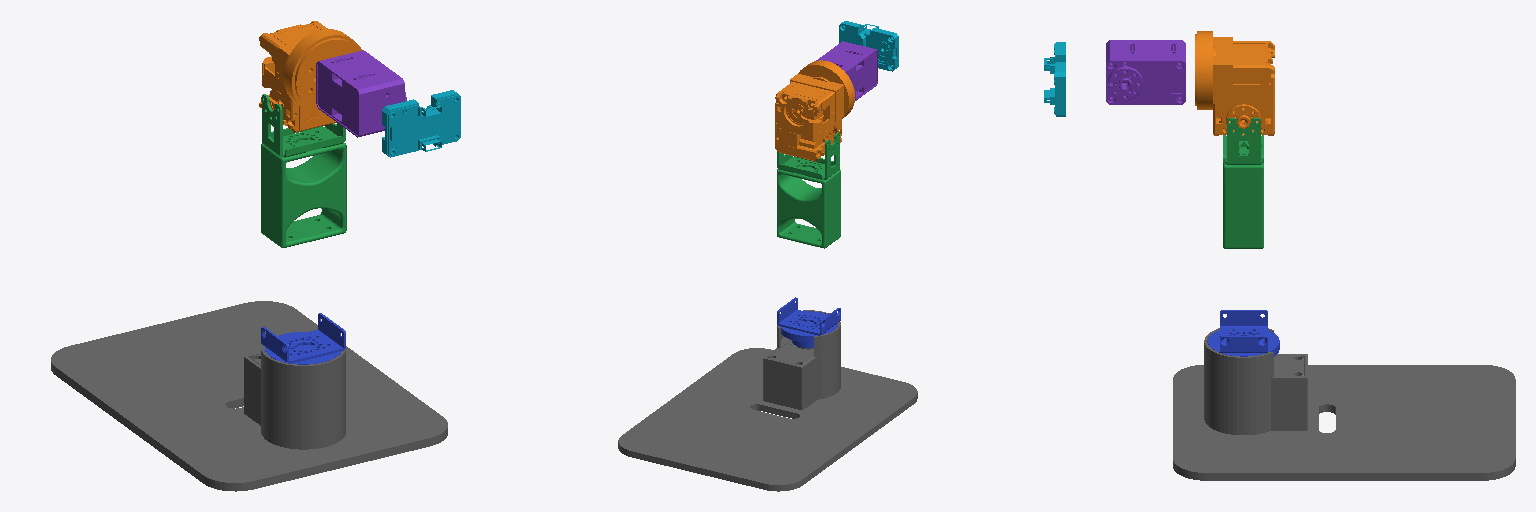
The robot description file, URDF, robot "robot_arm_fusion":
<?xml version="1.0"?>
<robot name="robot_arm_fusion">
  <material name="base_gray"><color rgba="0.45 0.45 0.45 1"/></material>
  <material name="yaw_blue"><color rgba="0.25 0.35 0.85 1"/></material>
  <material name="shoulder_green"><color rgba="0.2 0.65 0.35 1"/></material>
  <material name="upper_orange"><color rgba="0.95 0.55 0.15 1"/></material>
  <material name="forearm_purple"><color rgba="0.55 0.3 0.8 1"/></material>
  <material name="elbow_red"><color rgba="0.85 0.25 0.2 1"/></material>
  <material name="wrist_cyan"><color rgba="0.1 0.7 0.8 1"/></material>

  <link name="base_link">
    <inertial>
      <origin xyz="0 0 0" rpy="0 0 0"/>
      <mass value="0.1"/>
      <inertia ixx="0.0001" ixy="0" ixz="0" iyy="0.0001" iyz="0" izz="0.0001"/>
    </inertial>
    <visual>
      <origin xyz="-0.075 -0.0413 0" rpy="0 -0 0"/>
      <geometry><mesh filename="../cad/exports/fusion_meshes/arm_plate_v2_1.stl" scale="0.001 0.001 0.001"/></geometry>
      <material name="base_gray"/>
    </visual>
    <visual>
      <origin xyz="0.00015 -5e-05 0.022" rpy="-1.57772e-30 2.9525e-15 -3.14159"/>
      <geometry><mesh filename="../cad/exports/fusion_meshes/XM_H-430_idler_1_DUMMY_DC12_1.stl" scale="0.001 0.001 0.001"/></geometry>
      <material name="base_gray"/>
    </visual>
  </link>

  <link name="base_yaw_link">
    <inertial>
      <origin xyz="0 0 0" rpy="0 0 0"/>
      <mass value="0.1"/>
      <inertia ixx="0.0001" ixy="0" ixz="0" iyy="0.0001" iyz="0" izz="0.0001"/>
    </inertial>
    <visual>
      <origin xyz="-4.43239e-34 9.52863e-34 0.055" rpy="-3.14159 -1.21521e-17 -3.14159"/>
      <geometry><mesh filename="../cad/exports/fusion_meshes/arm_thrustA_1.stl" scale="0.001 0.001 0.001"/></geometry>
      <material name="yaw_blue"/>
    </visual>
    <visual>
      <origin xyz="2.56706e-16 1.09555e-16 0.0745" rpy="-3.14159 -2.04493e-15 -3.14159"/>
      <geometry><mesh filename="../cad/exports/fusion_meshes/fr12_s102_k_1.stl" scale="0.001 0.001 0.001"/></geometry>
      <material name="yaw_blue"/>
    </visual>
    <visual>
      <origin xyz="7.66984e-17 1.57737e-16 0.0955" rpy="1.5708 7.13883e-18 1.5708"/>
      <geometry><mesh filename="../cad/exports/fusion_meshes/XM_H-430_idler_2_DUMMY_DC12_1.stl" scale="0.001 0.001 0.001"/></geometry>
      <material name="yaw_blue"/>
    </visual>
  </link>

  <link name="shoulder_pitch_link">
    <inertial>
      <origin xyz="0 0 0" rpy="0 0 0"/>
      <mass value="0.1"/>
      <inertia ixx="0.0001" ixy="0" ixz="0" iyy="0.0001" iyz="0" izz="0.0001"/>
    </inertial>
    <visual>
      <origin xyz="4.36406e-17 1.76033e-16 -5e-05" rpy="1.5708 2.04397e-15 1.17928e-16"/>
      <geometry><mesh filename="../cad/exports/fusion_meshes/fr12_h101_k_1.stl" scale="0.001 0.001 0.001"/></geometry>
      <material name="shoulder_green"/>
    </visual>
    <visual>
      <origin xyz="-0.0205 0.012 0.08195" rpy="0 1.5708 -1.5708"/>
      <geometry><mesh filename="../cad/exports/fusion_meshes/arm_part1_1.stl" scale="0.001 0.001 0.001"/></geometry>
      <material name="shoulder_green"/>
    </visual>
    <visual>
      <origin xyz="-1.79023e-17 -6.00631e-16 0.10995" rpy="-1.5708 1.28606e-16 1.53078e-15"/>
      <geometry><mesh filename="../cad/exports/fusion_meshes/fr12_h101_k_2.stl" scale="0.001 0.001 0.001"/></geometry>
      <material name="shoulder_green"/>
    </visual>
  </link>

  <link name="upper_arm_link">
    <inertial>
      <origin xyz="0 0 0" rpy="0 0 0"/>
      <mass value="0.1"/>
      <inertia ixx="0.0001" ixy="0" ixz="0" iyy="0.0001" iyz="0" izz="0.0001"/>
    </inertial>
    <visual>
      <origin xyz="0.00048 -0.008 0.00625" rpy="1.5708 1.20278e-16 1.65146e-15"/>
      <geometry><mesh filename="../cad/exports/fusion_meshes/2XC-430_1_DC14_A01_REF_1.stl" scale="0.001 0.001 0.001"/></geometry>
      <material name="upper_orange"/>
    </visual>
    <visual>
      <origin xyz="0.016 -0.008 -0.00575" rpy="0 1.5708 -1.5708"/>
      <geometry><mesh filename="../cad/exports/fusion_meshes/2XC-430_1_DC11_A01_HORN_REF_ASM_1_DC11_A01_HORN_REF_1.stl" scale="0.001 0.001 0.001"/></geometry>
      <material name="upper_orange"/>
    </visual>
    <visual>
      <origin xyz="0.00048 -0.02352 0.01825" rpy="0 -1.5708 -3.14159"/>
      <geometry><mesh filename="../cad/exports/fusion_meshes/2XC-430_1_DC11_A01_HORN_REF_ASM_2_DC11_A01_HORN_REF_1.stl" scale="0.001 0.001 0.001"/></geometry>
      <material name="upper_orange"/>
    </visual>
    <visual>
      <origin xyz="0.00058 -0.026 0.01824" rpy="1.5708 1.20278e-16 1.65146e-15"/>
      <geometry><mesh filename="../cad/exports/fusion_meshes/arm_thrustC_1.stl" scale="0.001 0.001 0.001"/></geometry>
      <material name="upper_orange"/>
    </visual>
    <visual>
      <origin xyz="0.00048 -0.03652 0.01825" rpy="-1.5708 -4.91456e-16 4.01944e-15"/>
      <geometry><mesh filename="../cad/exports/fusion_meshes/arm_thrustB_1.stl" scale="0.001 0.001 0.001"/></geometry>
      <material name="upper_orange"/>
    </visual>
    <visual>
      <origin xyz="0.00048 -0.05602 0.01825" rpy="-1.5708 -4.91456e-16 4.23541e-15"/>
      <geometry><mesh filename="../cad/exports/fusion_meshes/fr12_s102_k_2.stl" scale="0.001 0.001 0.001"/></geometry>
      <material name="upper_orange"/>
    </visual>
  </link>

  <link name="forearm_link">
    <inertial>
      <origin xyz="0 0 0" rpy="0 0 0"/>
      <mass value="0.1"/>
      <inertia ixx="0.0001" ixy="0" ixz="0" iyy="0.0001" iyz="0" izz="0.0001"/>
    </inertial>
    <visual>
      <origin xyz="-0.01142 -0.00992 -0.00445" rpy="0 -1.5708 -3.14159"/>
      <geometry><mesh filename="../cad/exports/fusion_meshes/XC-430_idle_1_DC11_B01_CASE_M_DUMMY_1.stl" scale="0.001 0.001 0.001"/></geometry>
      <material name="forearm_purple"/>
    </visual>
    <visual>
      <origin xyz="-0.01142 -0.00992 -0.00445" rpy="0 -1.5708 -3.14159"/>
      <geometry><mesh filename="../cad/exports/fusion_meshes/XC-430_idle_1_DC11_B01_CASE_F_DUMMY_1.stl" scale="0.001 0.001 0.001"/></geometry>
      <material name="forearm_purple"/>
    </visual>
    <visual>
      <origin xyz="-0.01142 -0.00992 -0.00445" rpy="0 -1.5708 -3.14159"/>
      <geometry><mesh filename="../cad/exports/fusion_meshes/XC-430_idle_1_DC11_B01_CASE_B_DUMMY2_1.stl" scale="0.001 0.001 0.001"/></geometry>
      <material name="forearm_purple"/>
    </visual>
    <visual>
      <origin xyz="0.00408 -0.00992 -0.00445" rpy="4.92709e-16 7.77156e-16 -1.5708"/>
      <geometry><mesh filename="../cad/exports/fusion_meshes/XC-430_idle_1_M_DC11_A01_HORN_ASM_1_M_DC11_A01_HORN_1.stl" scale="0.001 0.001 0.001"/></geometry>
      <material name="forearm_purple"/>
    </visual>
    <visual>
      <origin xyz="-0.03192 -0.03792 -0.01645" rpy="1.5708 -3.70721e-16 5.39809e-15"/>
      <geometry><mesh filename="../cad/exports/fusion_meshes/arm_hand_v2_1.stl" scale="0.001 0.001 0.001"/></geometry>
      <material name="forearm_purple"/>
    </visual>
    <visual>
      <origin xyz="-0.01142 -0.00992 -0.00445" rpy="-8.18789e-16 4.93185e-16 -3.14159"/>
      <geometry><mesh filename="../cad/exports/fusion_meshes/fr12_h101_k_3.stl" scale="0.001 0.001 0.001"/></geometry>
      <material name="forearm_purple"/>
    </visual>
  </link>

  <link name="elbow_roll_link">
    <inertial>
      <origin xyz="0 0 0" rpy="0 0 0"/>
      <mass value="0.1"/>
      <inertia ixx="0.0001" ixy="0" ixz="0" iyy="0.0001" iyz="0" izz="0.0001"/>
    </inertial>
  </link>

  <link name="wrist_pitch_link">
    <inertial>
      <origin xyz="0 0 0" rpy="0 0 0"/>
      <mass value="0.1"/>
      <inertia ixx="0.0001" ixy="0" ixz="0" iyy="0.0001" iyz="0" izz="0.0001"/>
    </inertial>
    <visual>
      <origin xyz="-0.00732 -0.00202 -0.00855" rpy="0 -1.5708 1.5708"/>
      <geometry><mesh filename="../cad/exports/fusion_meshes/XC-430_idle_2_DC11_B01_CASE_M_DUMMY_1.stl" scale="0.001 0.001 0.001"/></geometry>
      <material name="wrist_cyan"/>
    </visual>
    <visual>
      <origin xyz="-0.00732 -0.00202 -0.00855" rpy="0 -1.5708 1.5708"/>
      <geometry><mesh filename="../cad/exports/fusion_meshes/XC-430_idle_2_DC11_B01_CASE_F_DUMMY_1.stl" scale="0.001 0.001 0.001"/></geometry>
      <material name="wrist_cyan"/>
    </visual>
    <visual>
      <origin xyz="-0.00732 -0.00202 -0.00855" rpy="0 -1.5708 1.5708"/>
      <geometry><mesh filename="../cad/exports/fusion_meshes/XC-430_idle_2_DC11_B01_CASE_B_DUMMY2_1.stl" scale="0.001 0.001 0.001"/></geometry>
      <material name="wrist_cyan"/>
    </visual>
    <visual>
      <origin xyz="-0.00732 -0.01752 -0.00855" rpy="-3.33067e-16 -1.44018e-15 -3.14159"/>
      <geometry><mesh filename="../cad/exports/fusion_meshes/XC-430_idle_2_M_DC11_A01_HORN_ASM_1_M_DC11_A01_HORN_1.stl" scale="0.001 0.001 0.001"/></geometry>
      <material name="wrist_cyan"/>
    </visual>
  </link>

  <joint name="base_yaw_joint" type="revolute">
    <parent link="base_link"/>
    <child link="base_yaw_link"/>
    <origin xyz="0 0 0" rpy="0 0 0"/>
    <axis xyz="0 0 1"/>
    <limit lower="-3.14159" upper="3.14159" effort="2.0" velocity="1.0"/>
  </joint>

  <joint name="shoulder_pitch_joint" type="revolute">
    <parent link="base_yaw_link"/>
    <child link="shoulder_pitch_link"/>
    <origin xyz="0 0 0.0955" rpy="0 0 0"/>
    <axis xyz="1 0 0"/>
    <limit lower="-1.5708" upper="1.5708" effort="2.0" velocity="1.0"/>
  </joint>

  <joint name="elbow_pitch_joint" type="revolute">
    <parent link="shoulder_pitch_link"/>
    <child link="upper_arm_link"/>
    <origin xyz="-0.0005 0.008 0.1157" rpy="0 0 0"/>
    <axis xyz="1 0 0"/>
    <limit lower="-1.5708" upper="1.5708" effort="2.0" velocity="1.0"/>
  </joint>

  <joint name="upper_arm_roll_joint" type="revolute">
    <parent link="upper_arm_link"/>
    <child link="forearm_link"/>
    <origin xyz="0.0119 -0.0671 0.0227" rpy="0 0 0"/>
    <axis xyz="0 0 -1"/>
    <limit lower="-1.5708" upper="1.5708" effort="2.0" velocity="1.0"/>
  </joint>

  <joint name="elbow_roll_joint" type="revolute">
    <parent link="forearm_link"/>
    <child link="elbow_roll_link"/>
    <origin xyz="-0.0078 -0.0004 0" rpy="0 0 0"/>
    <axis xyz="-1 0 0"/>
    <limit lower="-1.5708" upper="1.5708" effort="2.0" velocity="1.0"/>
  </joint>

  <joint name="wrist_pitch_joint" type="revolute">
    <parent link="elbow_roll_link"/>
    <child link="wrist_pitch_link"/>
    <origin xyz="0.0037 -0.0595 0.0041" rpy="0 0 0"/>
    <axis xyz="0 1 0"/>
    <limit lower="-1.5708" upper="1.5708" effort="2.0" velocity="1.0"/>
  </joint>

</robot>

--- Render facts (derived) ---
The picture shows the robot from 3 angles, left to right: view 1: azimuth 30°, elevation 25°; view 2: azimuth 150°, elevation 25°; view 3: azimuth 270°, elevation 25°; orthographic projection.
Model robot_arm_fusion with 7 links and 6 joints (6 revolute), rooted at base_link, posed all joints at 0.
Links seen in each view (by area): view 1: base_link, shoulder_pitch_link, upper_arm_link, forearm_link, wrist_pitch_link, base_yaw_link; view 2: base_link, upper_arm_link, shoulder_pitch_link, base_yaw_link, forearm_link, wrist_pitch_link; view 3: base_link, upper_arm_link, forearm_link, shoulder_pitch_link, base_yaw_link, wrist_pitch_link.
Link boxes in pixels (x1,y1,x2,y2): base_link: (51,301,447,491); shoulder_pitch_link: (261,94,346,247); upper_arm_link: (259,21,361,132); forearm_link: (316,50,406,137); wrist_pitch_link: (382,90,460,157); base_yaw_link: (261,313,345,364); base_link: (618,310,917,491); upper_arm_link: (775,60,854,161); shoulder_pitch_link: (777,132,840,248); base_yaw_link: (777,297,840,347); forearm_link: (816,41,877,100); wrist_pitch_link: (839,21,898,71); base_link: (1173,328,1515,480); upper_arm_link: (1195,31,1274,135); forearm_link: (1106,40,1185,104); shoulder_pitch_link: (1223,118,1263,248); base_yaw_link: (1208,310,1279,356); wrist_pitch_link: (1044,42,1065,116).
Size in the robot's own frame: 0.15 by 0.275 by 0.2524 metres.
14 mesh visuals loaded from 24 distinct referenced files (14 binary STL); not drawn: 10 (reference not matched to a file when rendering).
